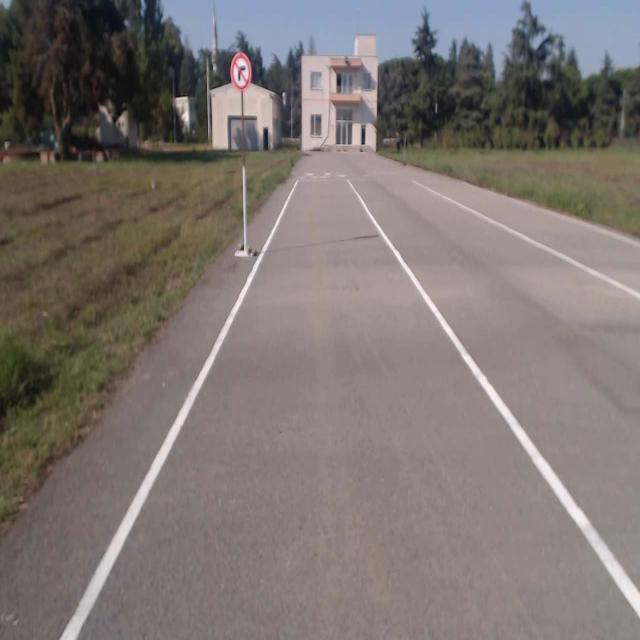sagadonulmez: (231, 53, 249, 87)
